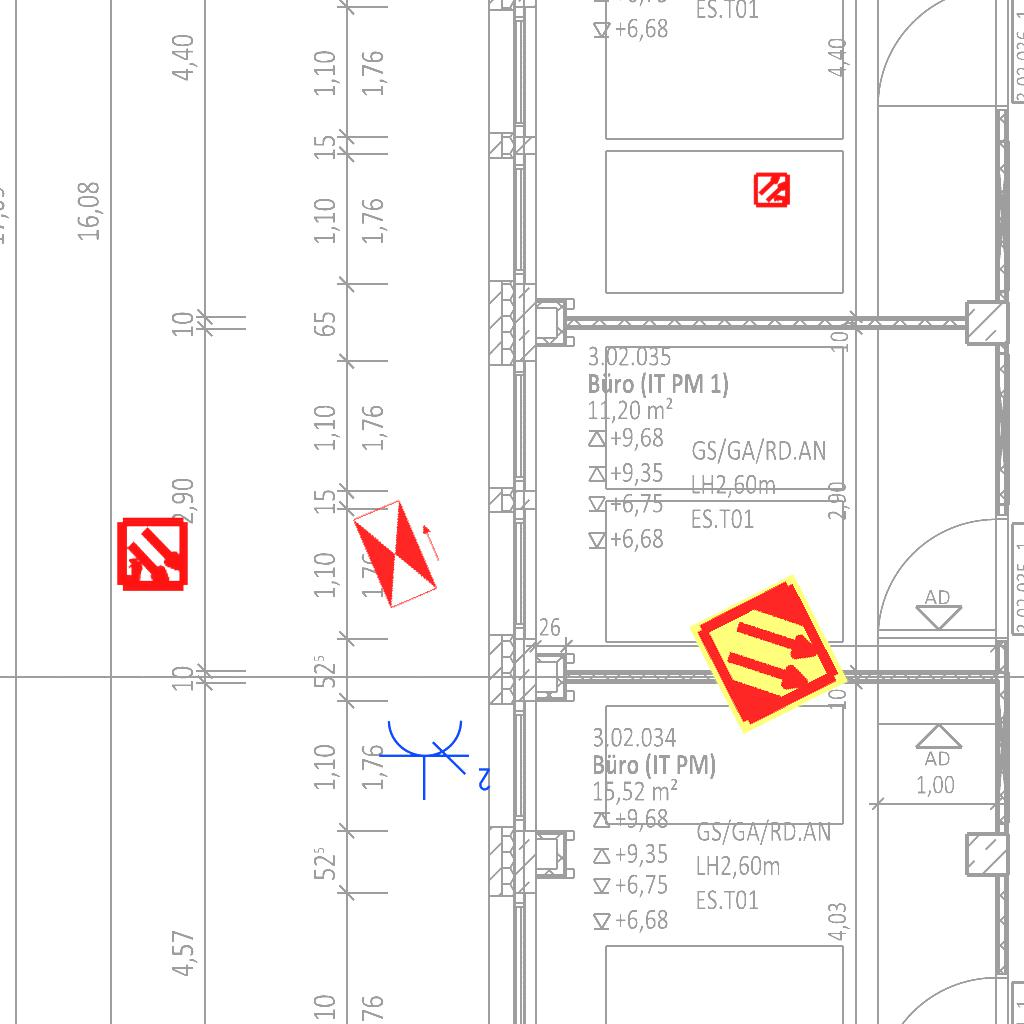ASR_Ansaugrauchmelder: (684, 570, 853, 739)
Fluchtwegpiktogramm: (348, 488, 457, 614)
OT_Multisensormelder_(Kombination_RMO_WMD): (96, 500, 209, 613), (745, 162, 801, 218)
Schukosteckdose_mehrfach: (377, 714, 498, 802)
